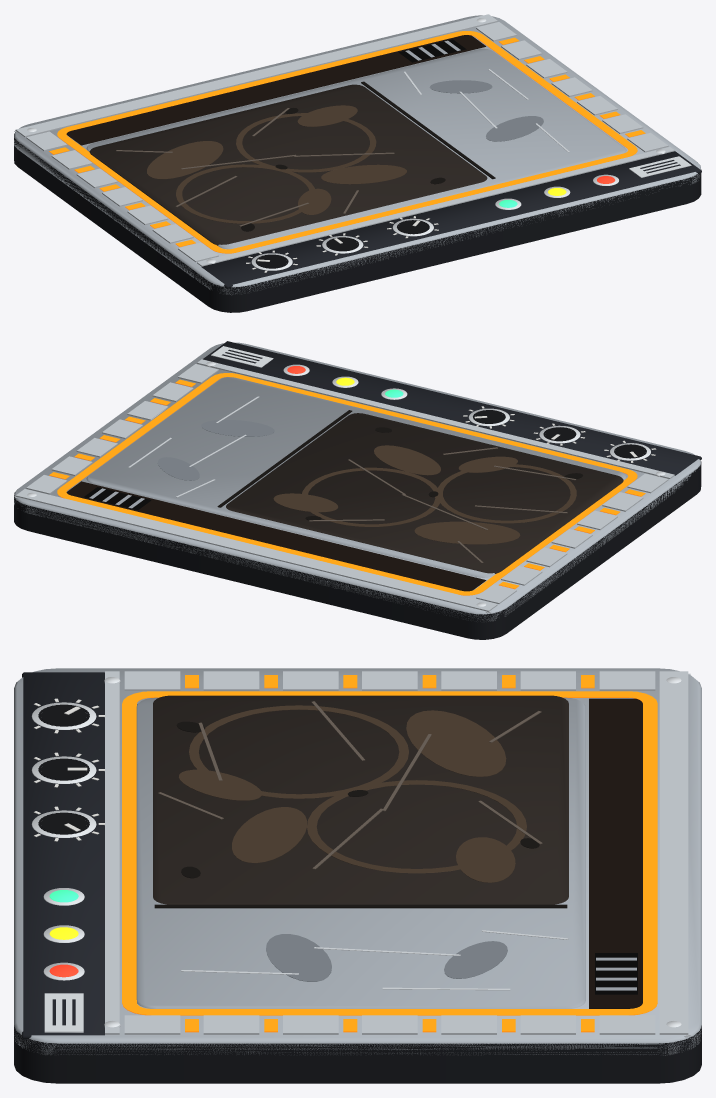
The model's file is griddle.glb.
The picture shows the model from 3 angles, top to bottom: view 1: azimuth 30°, elevation 25°; view 2: azimuth 150°, elevation 25°; view 3: azimuth 270°, elevation 25°; orthographic projection. The views are drawn at different scales.
Parts seen in each view (by area): view 1: Griddle; view 2: Griddle; view 3: Griddle.
Part boxes in pixels (bbox=[...]): Griddle: bbox=[14, 14, 701, 312]; Griddle: bbox=[14, 341, 701, 639]; Griddle: bbox=[14, 668, 701, 1083].
Size of the model in its own units: 9 by 0.512 by 7.
